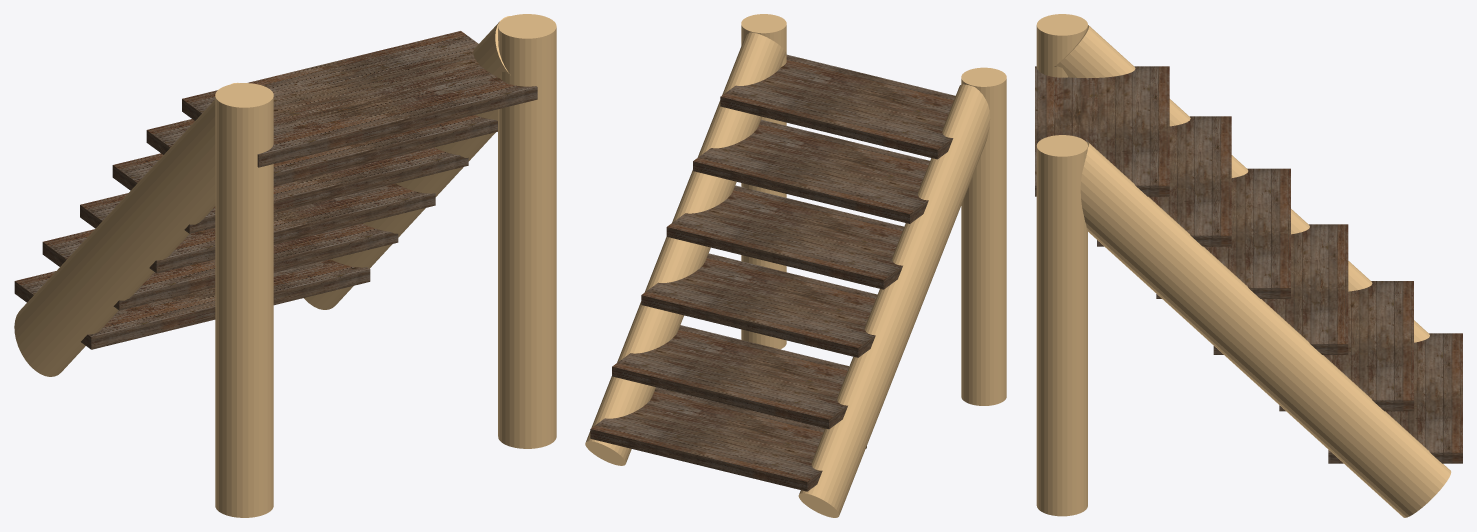
File: PalisadeWallStair_Small.fbx
3 views of the same model, side by side, from view 1: azimuth 30°, elevation 25°; view 2: azimuth 150°, elevation 25°; view 3: azimuth 270°, elevation 25° (orthographic). The views are drawn at different scales.
Parts seen in each view (by area): view 1: RoundStick.023, RoundStick.025, PalisadeFloor.021, RoundStick.026, PalisadeFloor.026, PalisadeFloor.024, PalisadeFloor.025, PalisadeFloor.023, PalisadeFloor.022, RoundStick.027; view 2: RoundStick.026, PalisadeFloor.023, PalisadeFloor.025, PalisadeFloor.022, PalisadeFloor.024, PalisadeFloor.021, PalisadeFloor.026, RoundStick.023, RoundStick.027, RoundStick.025; view 3: RoundStick.027, RoundStick.025, PalisadeFloor.021, PalisadeFloor.025, PalisadeFloor.022, PalisadeFloor.023, PalisadeFloor.024, PalisadeFloor.026, RoundStick.026, RoundStick.023.
Part boxes in pixels (left/top/right/bottom): RoundStick.023: left=215, top=83, right=273, bottom=517; RoundStick.025: left=498, top=14, right=556, bottom=448; PalisadeFloor.021: left=182, top=31, right=537, bottom=167; RoundStick.026: left=14, top=82, right=239, bottom=376; PalisadeFloor.026: left=14, top=259, right=370, bottom=349; PalisadeFloor.024: left=80, top=183, right=435, bottom=273; PalisadeFloor.025: left=42, top=223, right=398, bottom=310; PalisadeFloor.023: left=112, top=147, right=468, bottom=233; PalisadeFloor.022: left=146, top=115, right=497, bottom=186; RoundStick.027: left=304, top=16, right=510, bottom=309; RoundStick.026: left=798, top=84, right=990, bottom=517; PalisadeFloor.023: left=666, top=185, right=903, bottom=289; PalisadeFloor.025: left=612, top=325, right=849, bottom=429; PalisadeFloor.022: left=693, top=119, right=929, bottom=223; PalisadeFloor.024: left=641, top=253, right=877, bottom=357; PalisadeFloor.021: left=720, top=54, right=955, bottom=159; PalisadeFloor.026: left=590, top=387, right=866, bottom=491; RoundStick.023: left=961, top=67, right=1006, bottom=405; RoundStick.027: left=585, top=32, right=786, bottom=465; RoundStick.025: left=741, top=14, right=786, bottom=349; RoundStick.027: left=1080, top=142, right=1451, bottom=517; RoundStick.025: left=1036, top=135, right=1087, bottom=516; PalisadeFloor.021: left=1035, top=66, right=1169, bottom=196; PalisadeFloor.025: left=1279, top=281, right=1413, bottom=411; PalisadeFloor.022: left=1097, top=116, right=1231, bottom=246; PalisadeFloor.023: left=1156, top=168, right=1290, bottom=298; PalisadeFloor.024: left=1213, top=224, right=1348, bottom=354; PalisadeFloor.026: left=1328, top=333, right=1462, bottom=463; RoundStick.026: left=1054, top=25, right=1429, bottom=342; RoundStick.023: left=1036, top=14, right=1087, bottom=77.
Size of the model in its own units: 144 by 175 by 183.
